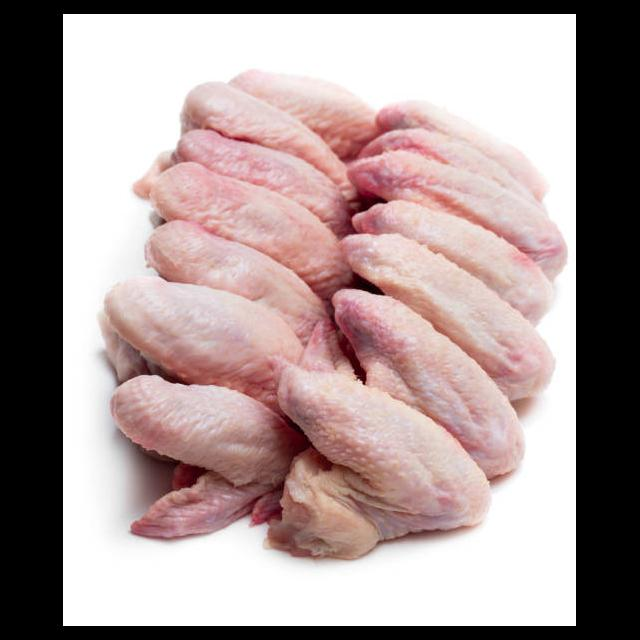chicken: (97, 61, 566, 564)
